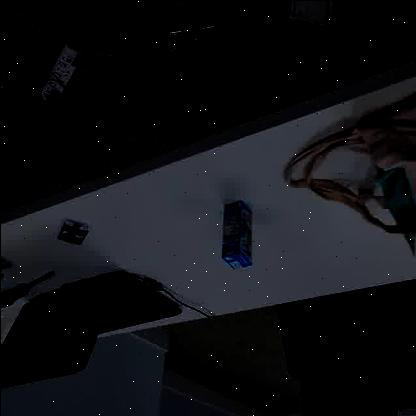Others: (215, 192, 259, 274)
